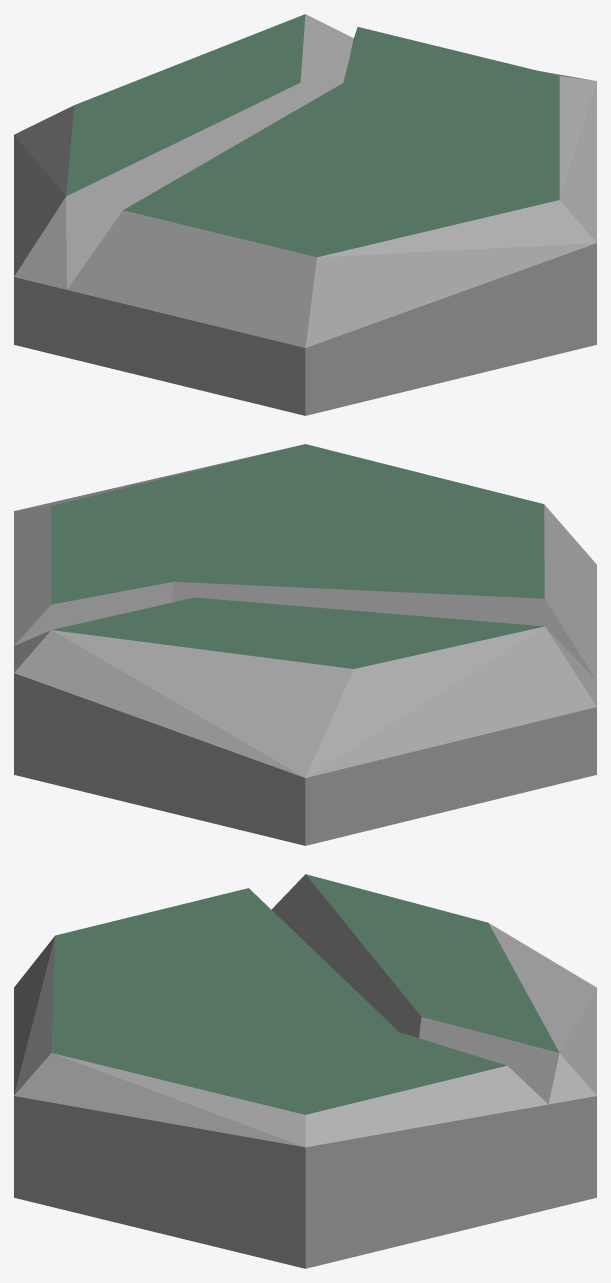
Rendered from Hex14.fbx.
3 views of the same model, one above another, from view 1: azimuth 30°, elevation 25°; view 2: azimuth 150°, elevation 25°; view 3: azimuth 270°, elevation 25° (orthographic).
Parts seen in each view (by area): view 1: Hex014; view 2: Hex014; view 3: Hex014.
Boxes of the visible parts, x1,y1,x2,y2 form: Hex014: (14, 14, 596, 415); Hex014: (14, 444, 596, 845); Hex014: (14, 874, 596, 1268).
Bounding box in the file's own units: 1.67 × 0.371 × 1.44.
